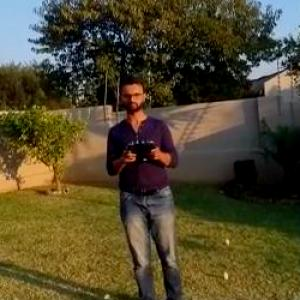follow: (101, 71, 186, 299)
